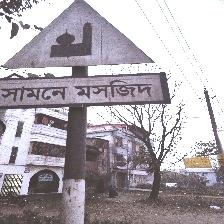Mosque in front: (1, 0, 166, 110)
